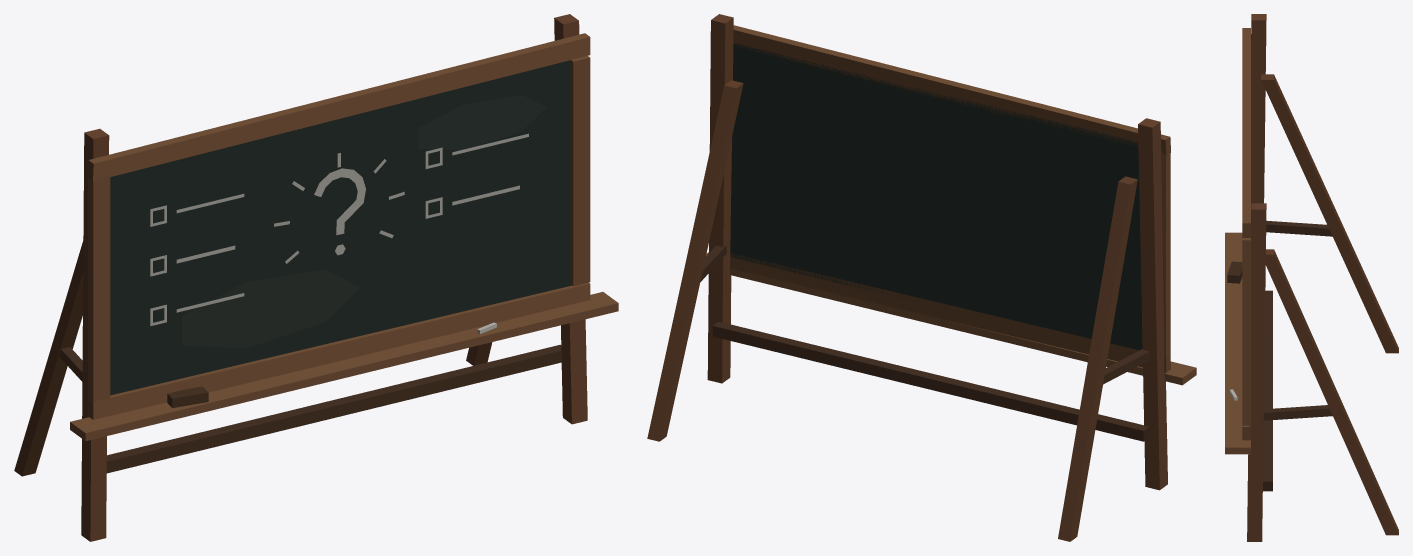
File: tl_furn_quiz_board_v01.glb
3 renders of one model, left to right at view 1: azimuth 30°, elevation 25°; view 2: azimuth 150°, elevation 25°; view 3: azimuth 270°, elevation 25°, orthographic. The views are drawn at different scales.
Parts seen in each view (by area): view 1: tl_furn_quiz_board_v01; view 2: tl_furn_quiz_board_v01; view 3: tl_furn_quiz_board_v01.
Boxes of the visible parts, <box> form: tl_furn_quiz_board_v01: <box>14,14,618,541</box>; tl_furn_quiz_board_v01: <box>647,14,1196,541</box>; tl_furn_quiz_board_v01: <box>1225,14,1398,541</box>.
Bounding box in the file's own units: 2.36 × 1.69 × 0.8075.
